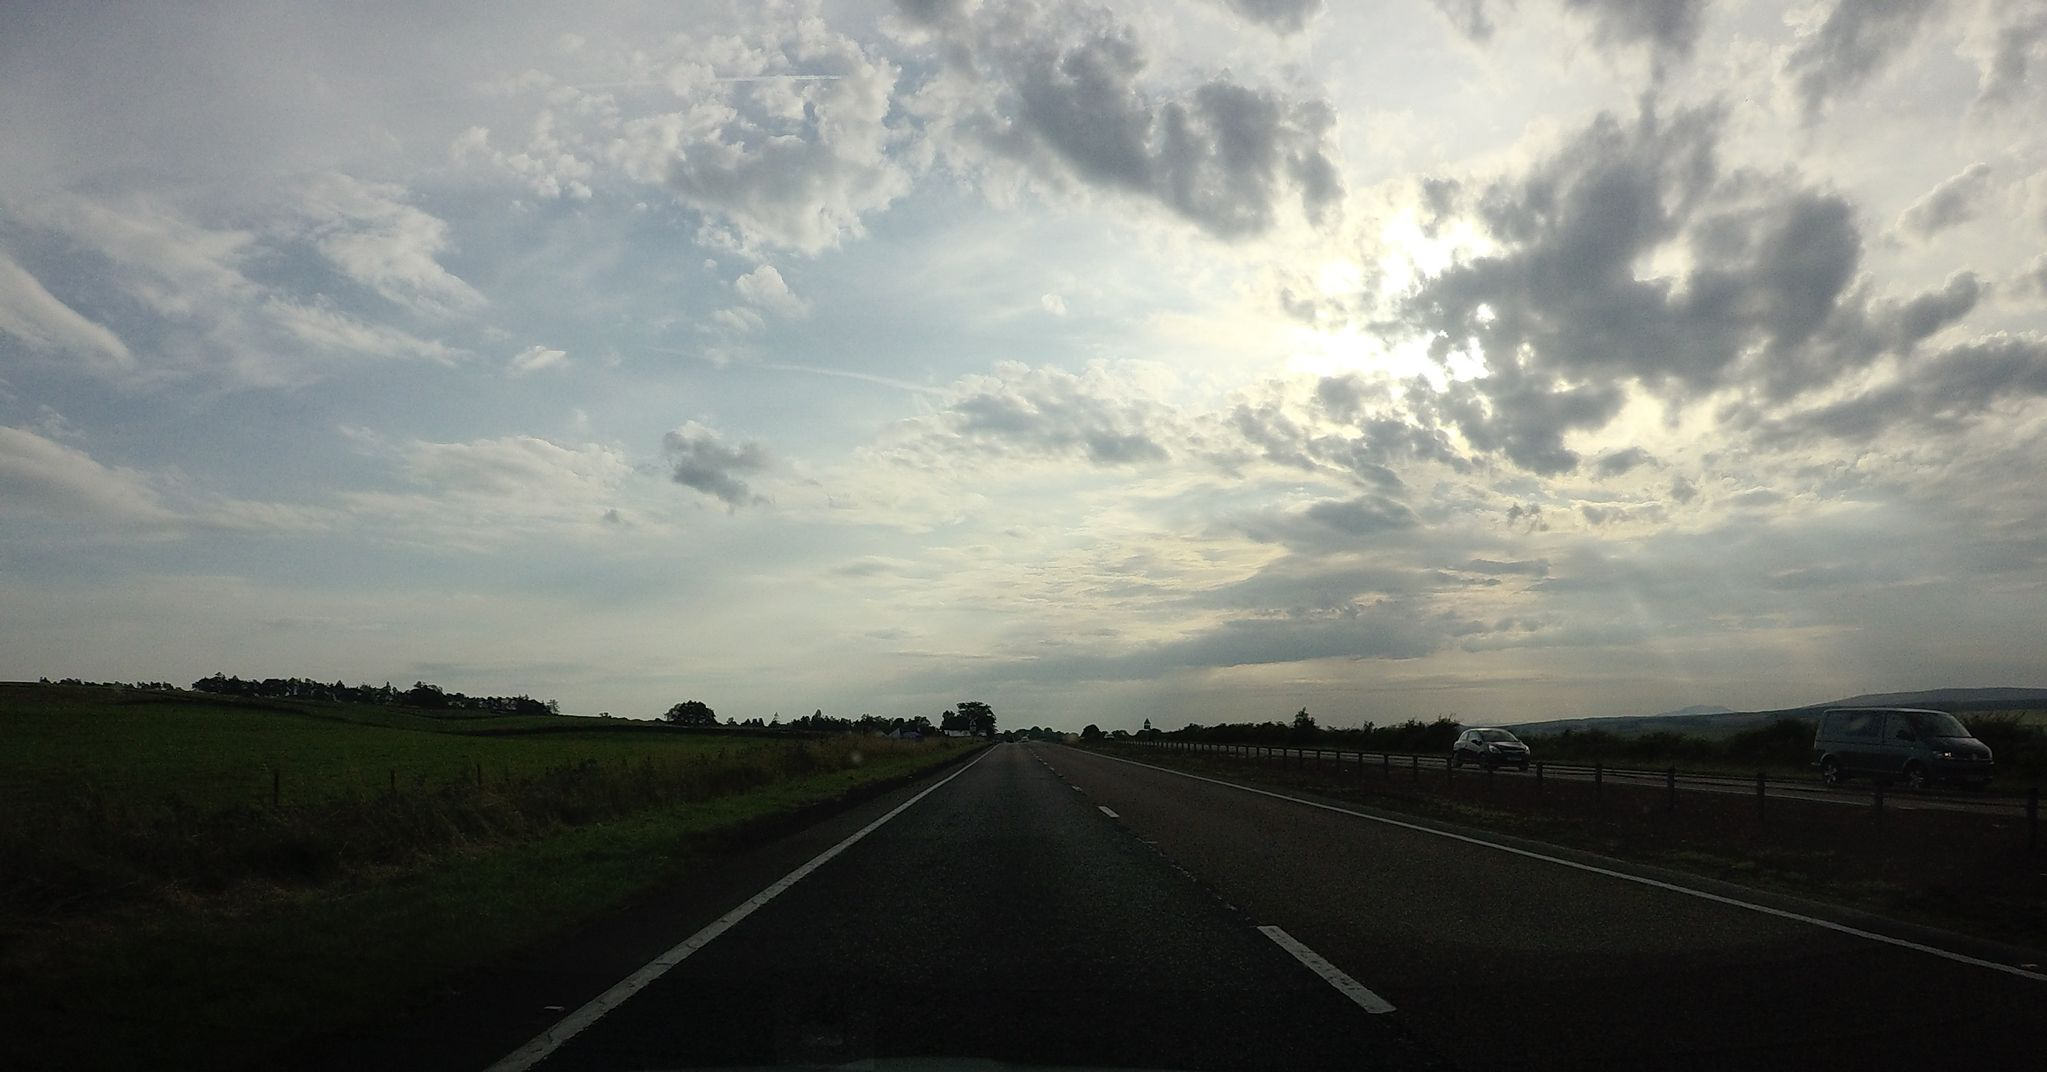car: (1810, 702, 1996, 793), (1450, 727, 1531, 770)
